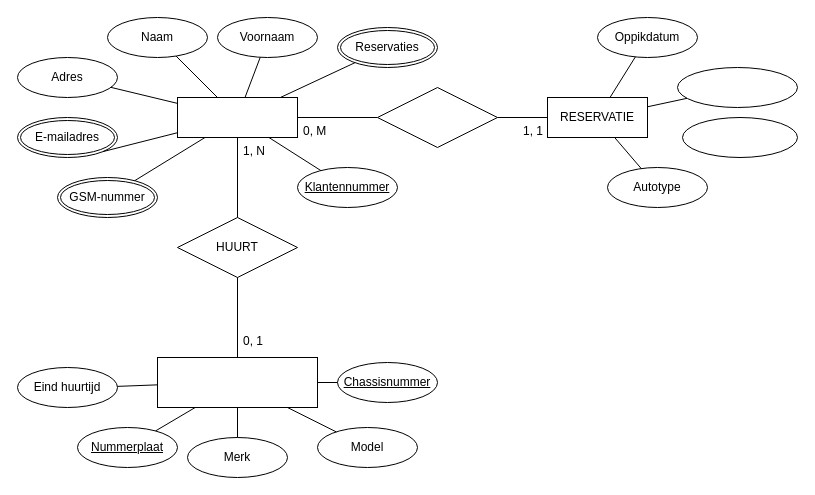
The diagram is 815 pixels wide and 495 high, and some of its shapes have lost their labels. The shapes that lost their labels are listed below. From the top down, each one's centre as x and y in pixels, then its label:
the point at 737,87: Terugbrengdatum
the point at 237,117: KLANT
the point at 437,117: Maakt
the point at 740,137: Reservatienummer
the point at 237,382: WAGEN
